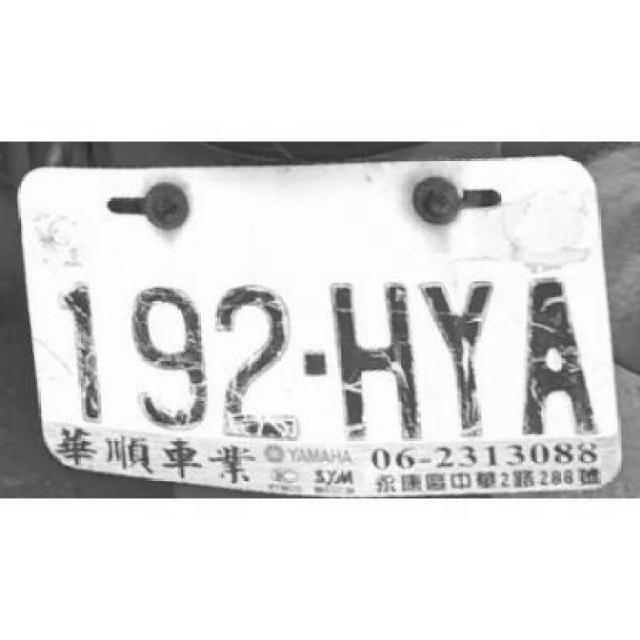-: (300, 348, 328, 382)
1: (55, 279, 103, 423)
2: (214, 283, 295, 440)
9: (126, 283, 209, 434)
A: (514, 263, 595, 443)
H: (328, 270, 422, 444)
Y: (418, 271, 500, 437)
